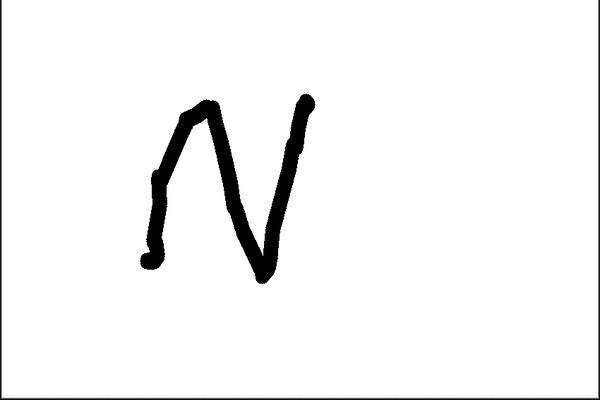N: (131, 84, 319, 286)
